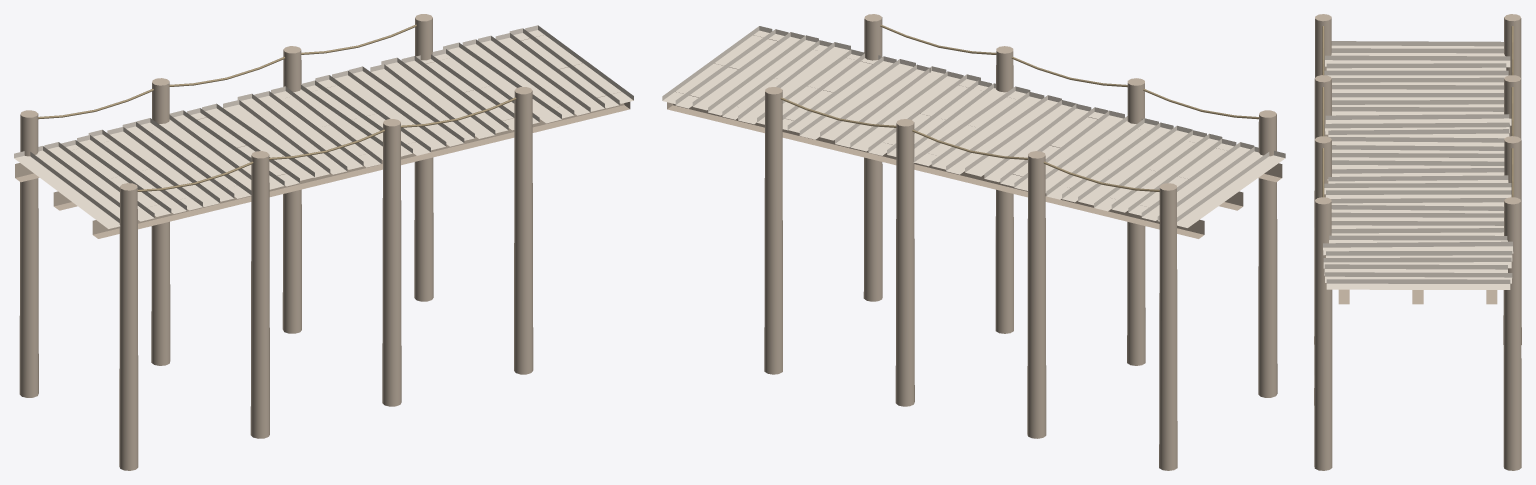
File: HarborPier.gltf
The picture shows the model from 3 angles, left to right: view 1: azimuth 30°, elevation 25°; view 2: azimuth 150°, elevation 25°; view 3: azimuth 270°, elevation 25°; orthographic projection. The views are drawn at different scales.
Visible parts, largest first — view 1: HarborPier; view 2: HarborPier; view 3: HarborPier.
Part boxes in pixels (<box>): HarborPier: <box>14,14,633,470</box>; HarborPier: <box>662,14,1285,470</box>; HarborPier: <box>1314,14,1521,470</box>.
Bounding box in the file's own units: 9.5 × 4.78 × 3.38.
